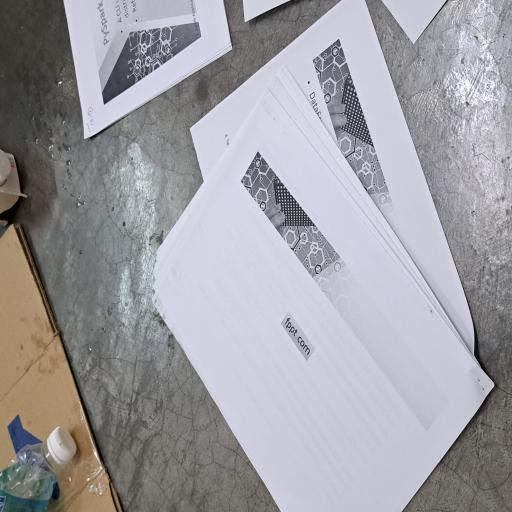cardboard: (0, 0, 220, 165)
drink carton: (223, 0, 269, 38)
paper: (0, 202, 384, 512), (279, 81, 384, 309)
plastic bottle: (0, 0, 54, 81)
plastic bottle cap: (36, 64, 64, 104), (244, 0, 272, 16)
